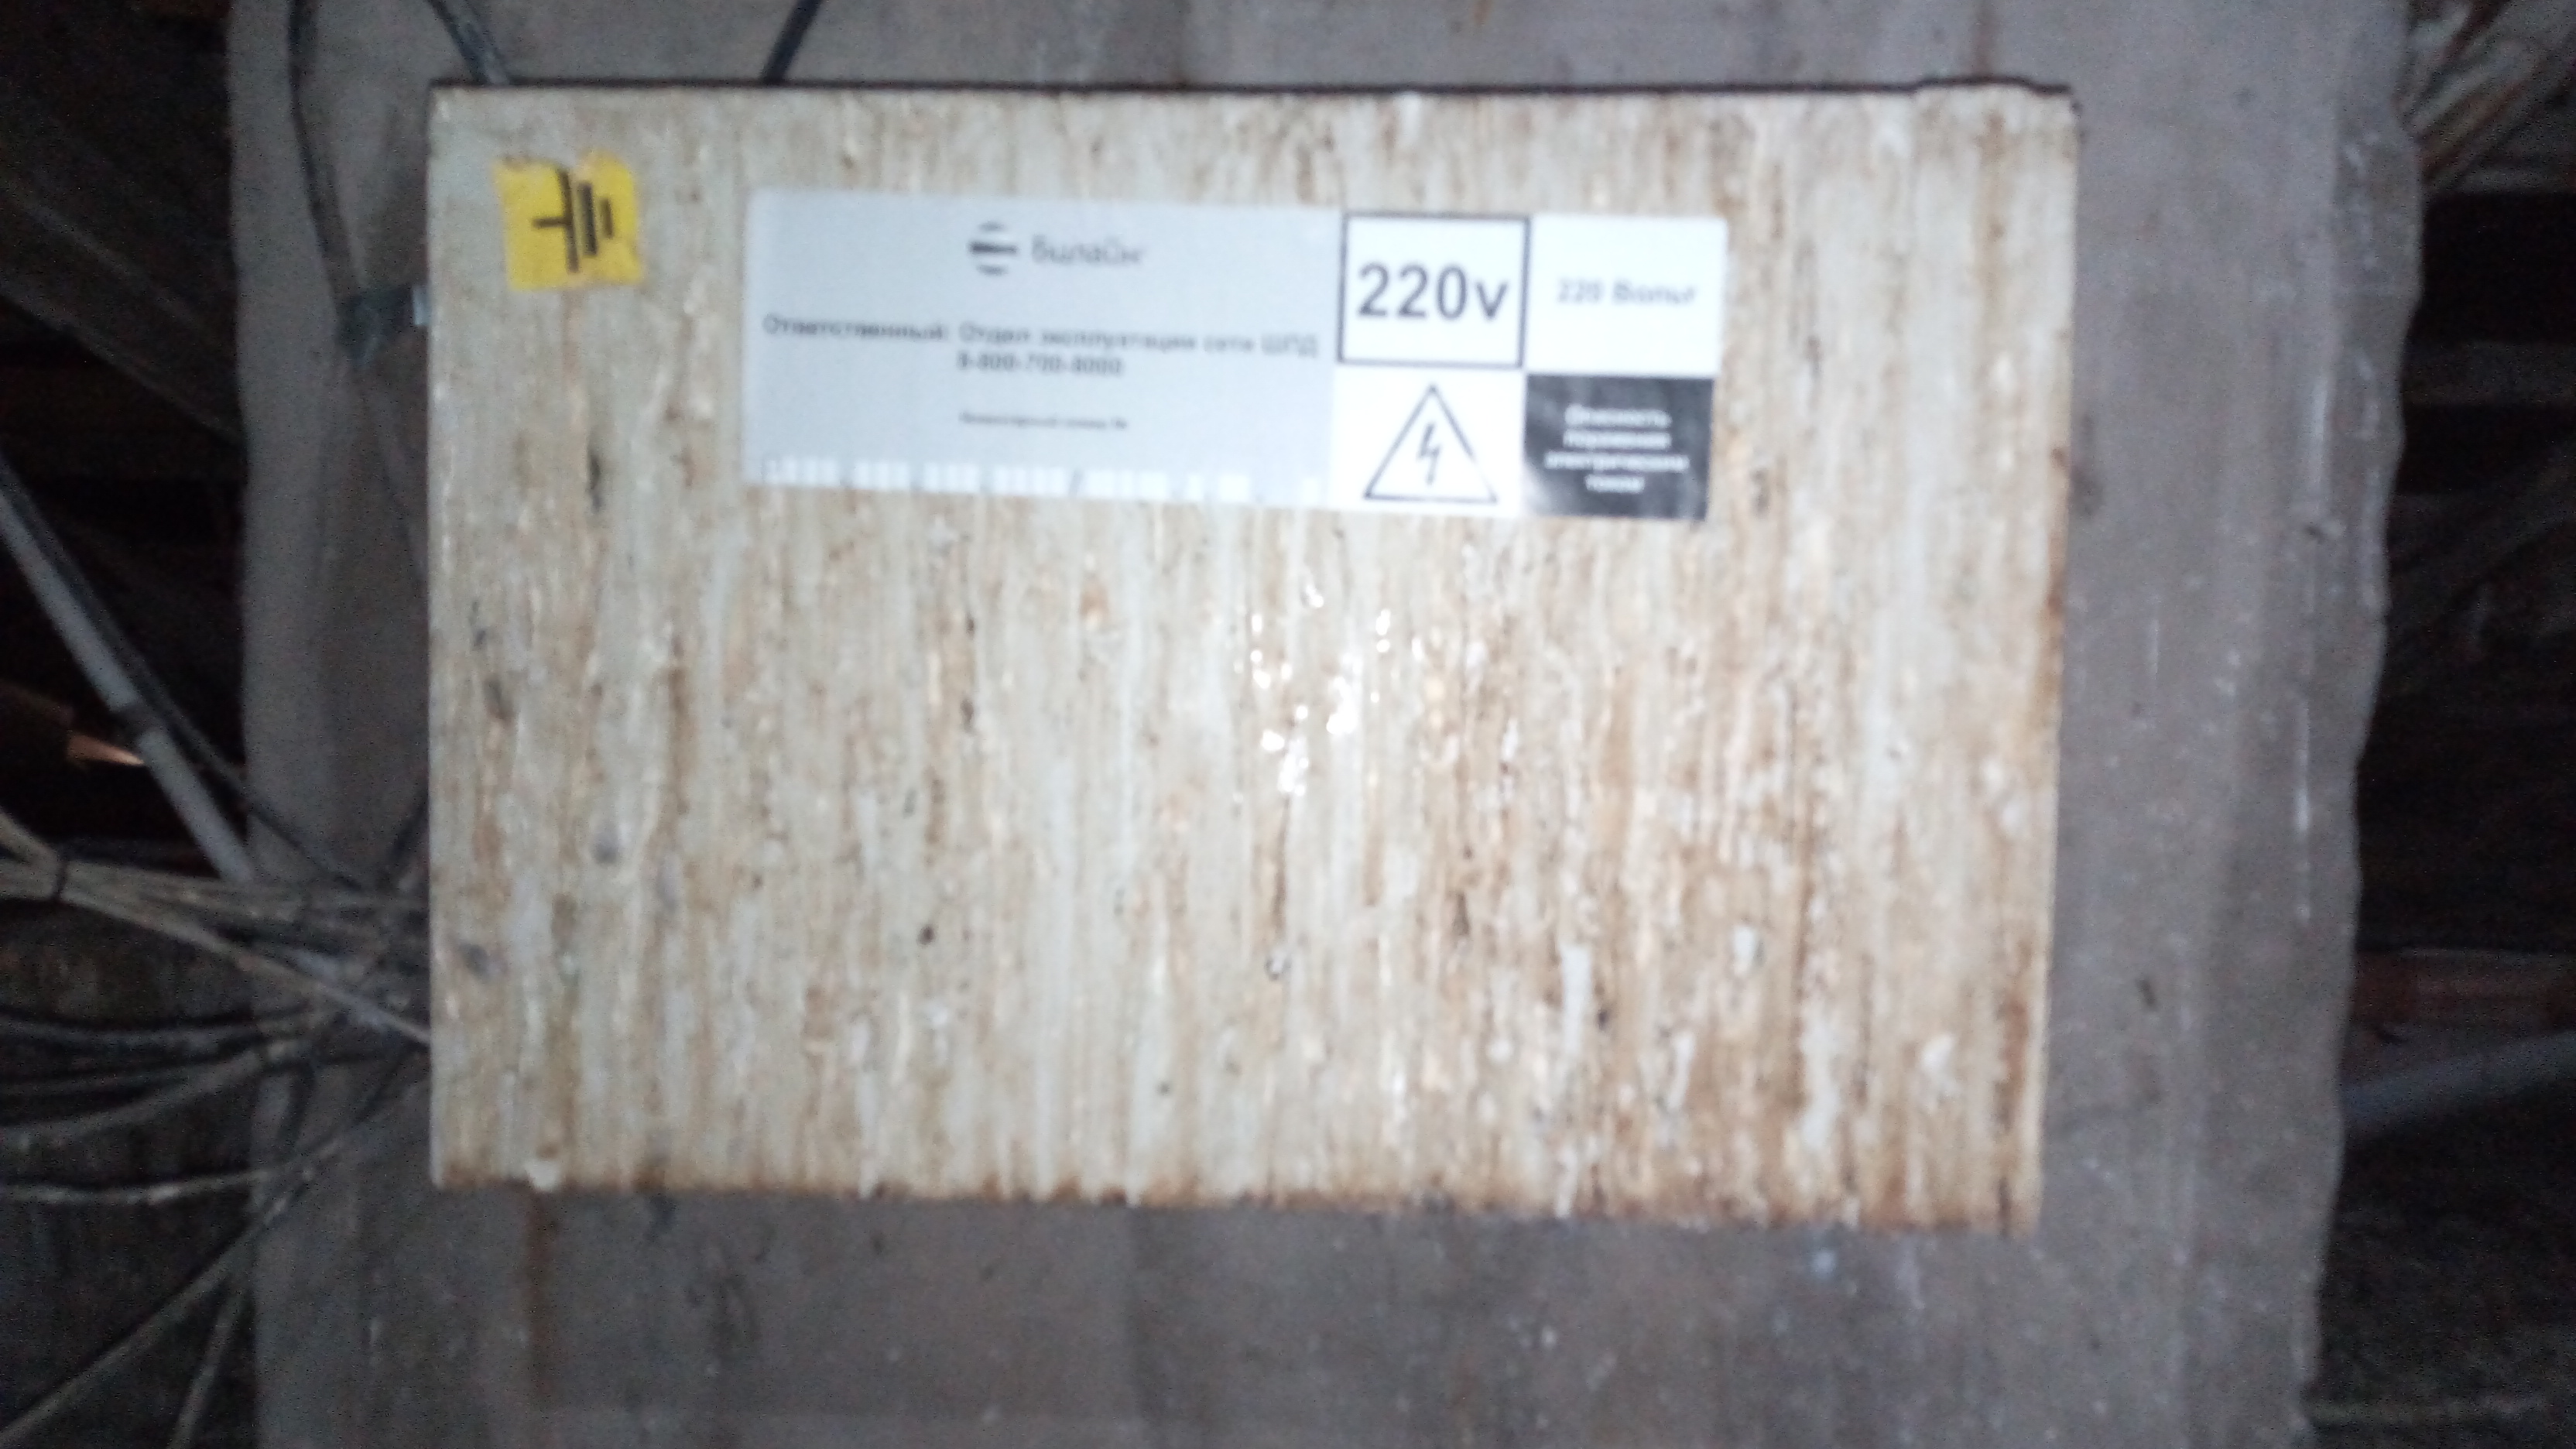sv-5: (389, 57, 2098, 1246)
